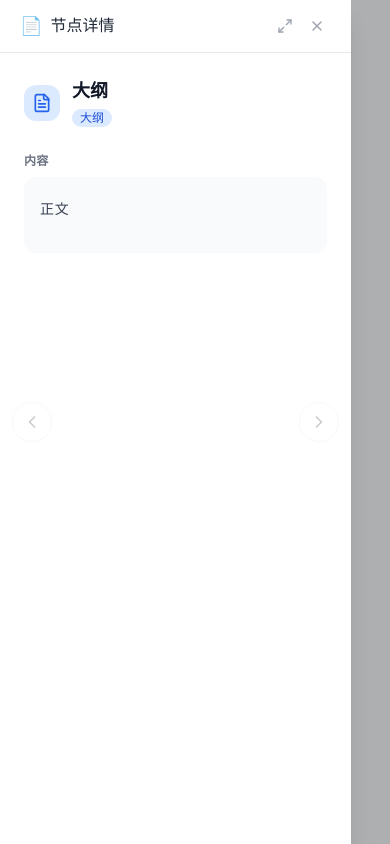
NodeDetailDrawer › toggles between sidebar and fullscreen modes
Click the button titled "全屏查看".
click(285, 26)  # box [271,12,299,40]
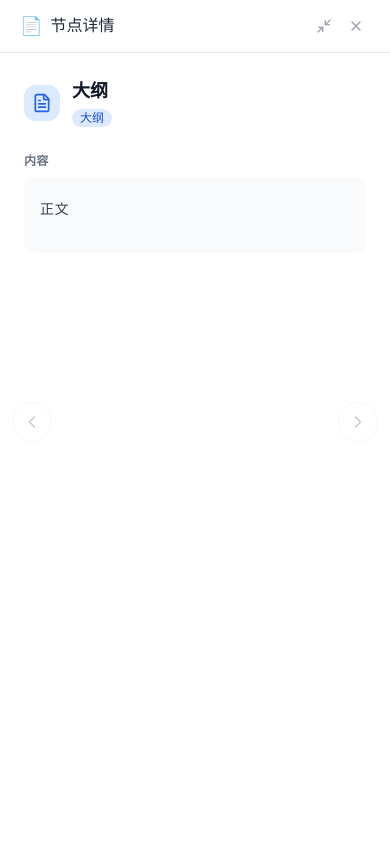
Expected: the button titled "退出全屏" is shown, [310,12,338,40]
